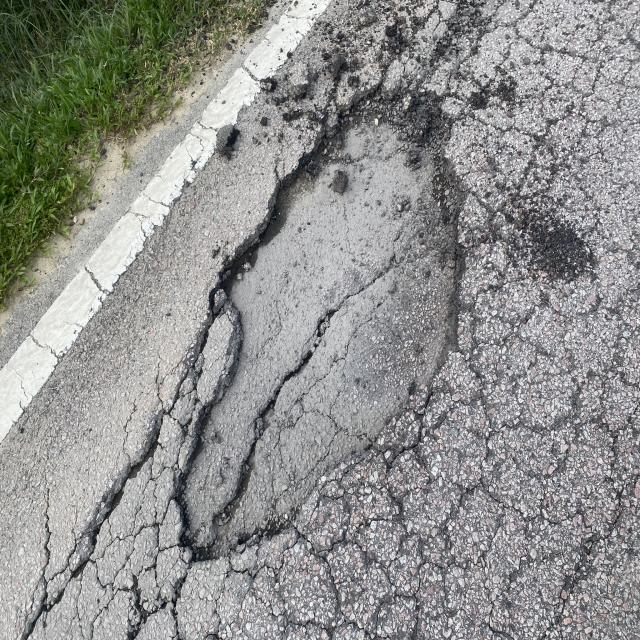Pothole: (149, 76, 517, 580)
